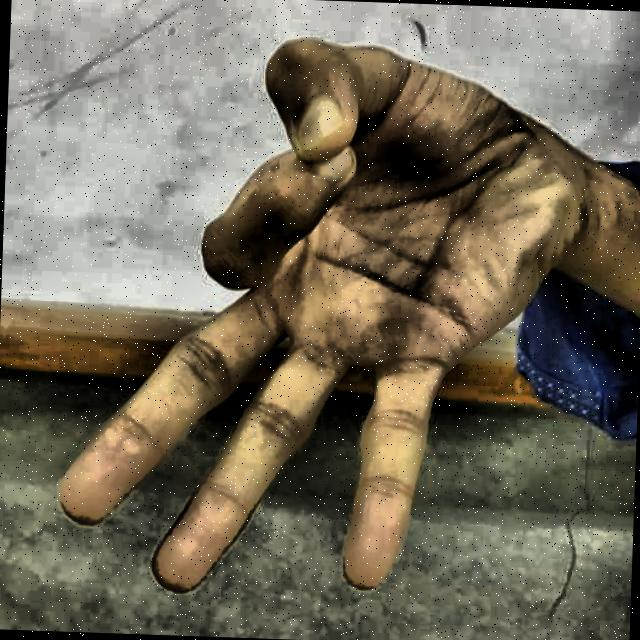Fa: (40, 14, 593, 634)
